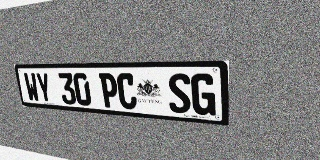0: (72, 73, 92, 106)
3: (58, 73, 77, 105)
C: (116, 73, 138, 110)
G: (191, 73, 216, 116)
P: (99, 73, 119, 108)
S: (168, 73, 191, 114)
W: (23, 73, 40, 102)
Y: (35, 73, 53, 103)
